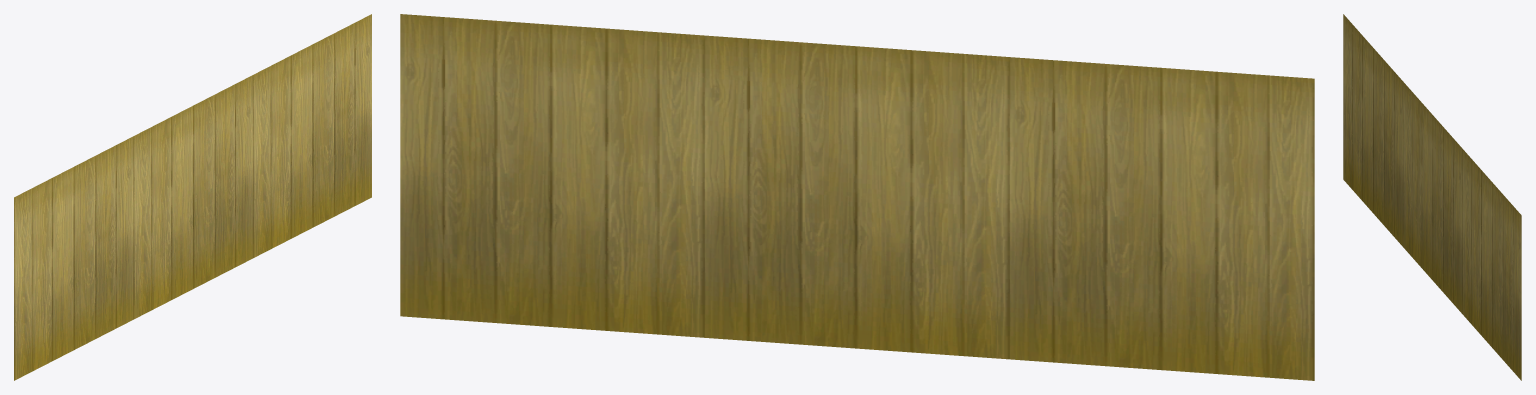
Rendered from HTOWN01_BAGROW2FRONT.fbx.
3 views of the same model, side by side, from view 1: azimuth 30°, elevation 25°; view 2: azimuth 150°, elevation 25°; view 3: azimuth 270°, elevation 25° (orthographic). The views are drawn at different scales.
Visible parts, largest first — view 1: HTOWN01_BAGROW2FRONT; view 2: HTOWN01_BAGROW2FRONT; view 3: HTOWN01_BAGROW2FRONT.
Part boxes in pixels (bbox=[...]): HTOWN01_BAGROW2FRONT: bbox=[14, 14, 371, 380]; HTOWN01_BAGROW2FRONT: bbox=[400, 14, 1314, 380]; HTOWN01_BAGROW2FRONT: bbox=[1343, 14, 1521, 380].
Bounding box in the file's own units: 87494 × 33614 × 32713.
Materials: 1 (1 with a texture image).
